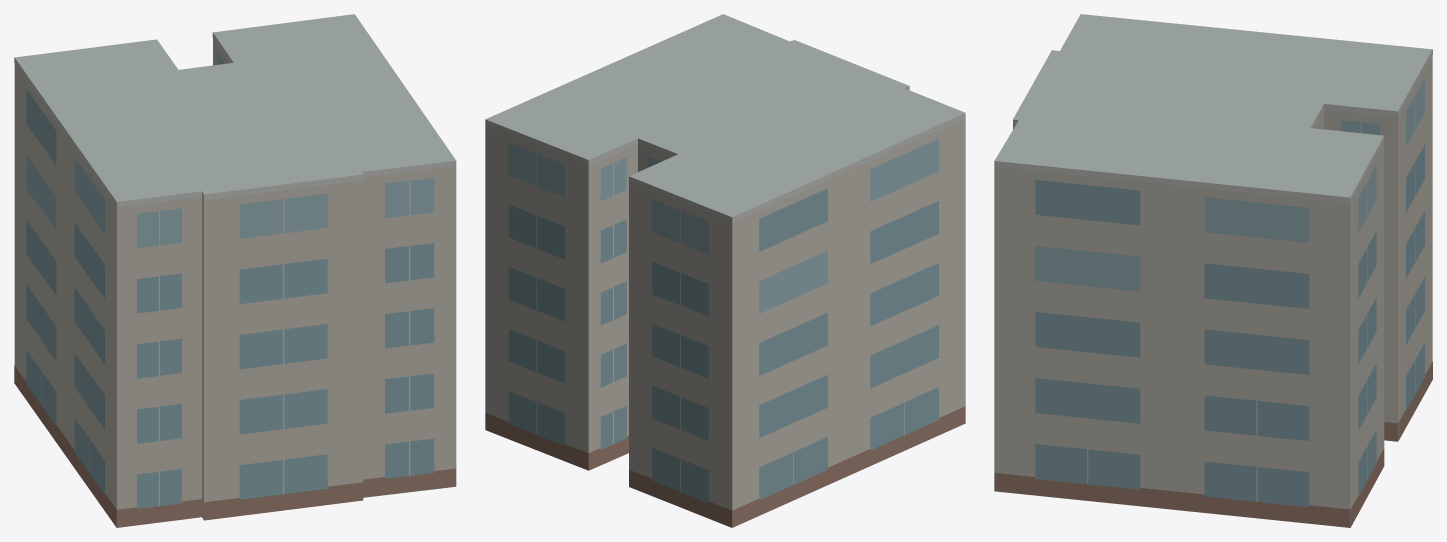
Rendered from survey-upis-32830307.glb.
3 views of the same model, side by side, from view 1: azimuth 30°, elevation 25°; view 2: azimuth 150°, elevation 25°; view 3: azimuth 270°, elevation 25° (orthographic). The views are drawn at different scales.
Parts seen in each view (by area): view 1: survey-upis-32830307.tmp; view 2: survey-upis-32830307.tmp; view 3: survey-upis-32830307.tmp.
Part boxes in pixels (x1,y1,x2,y2): survey-upis-32830307.tmp: [14, 14, 456, 527]; survey-upis-32830307.tmp: [485, 14, 965, 527]; survey-upis-32830307.tmp: [994, 14, 1432, 527].
Size of the model in its own units: 16.81 by 14.1 by 16.97.
